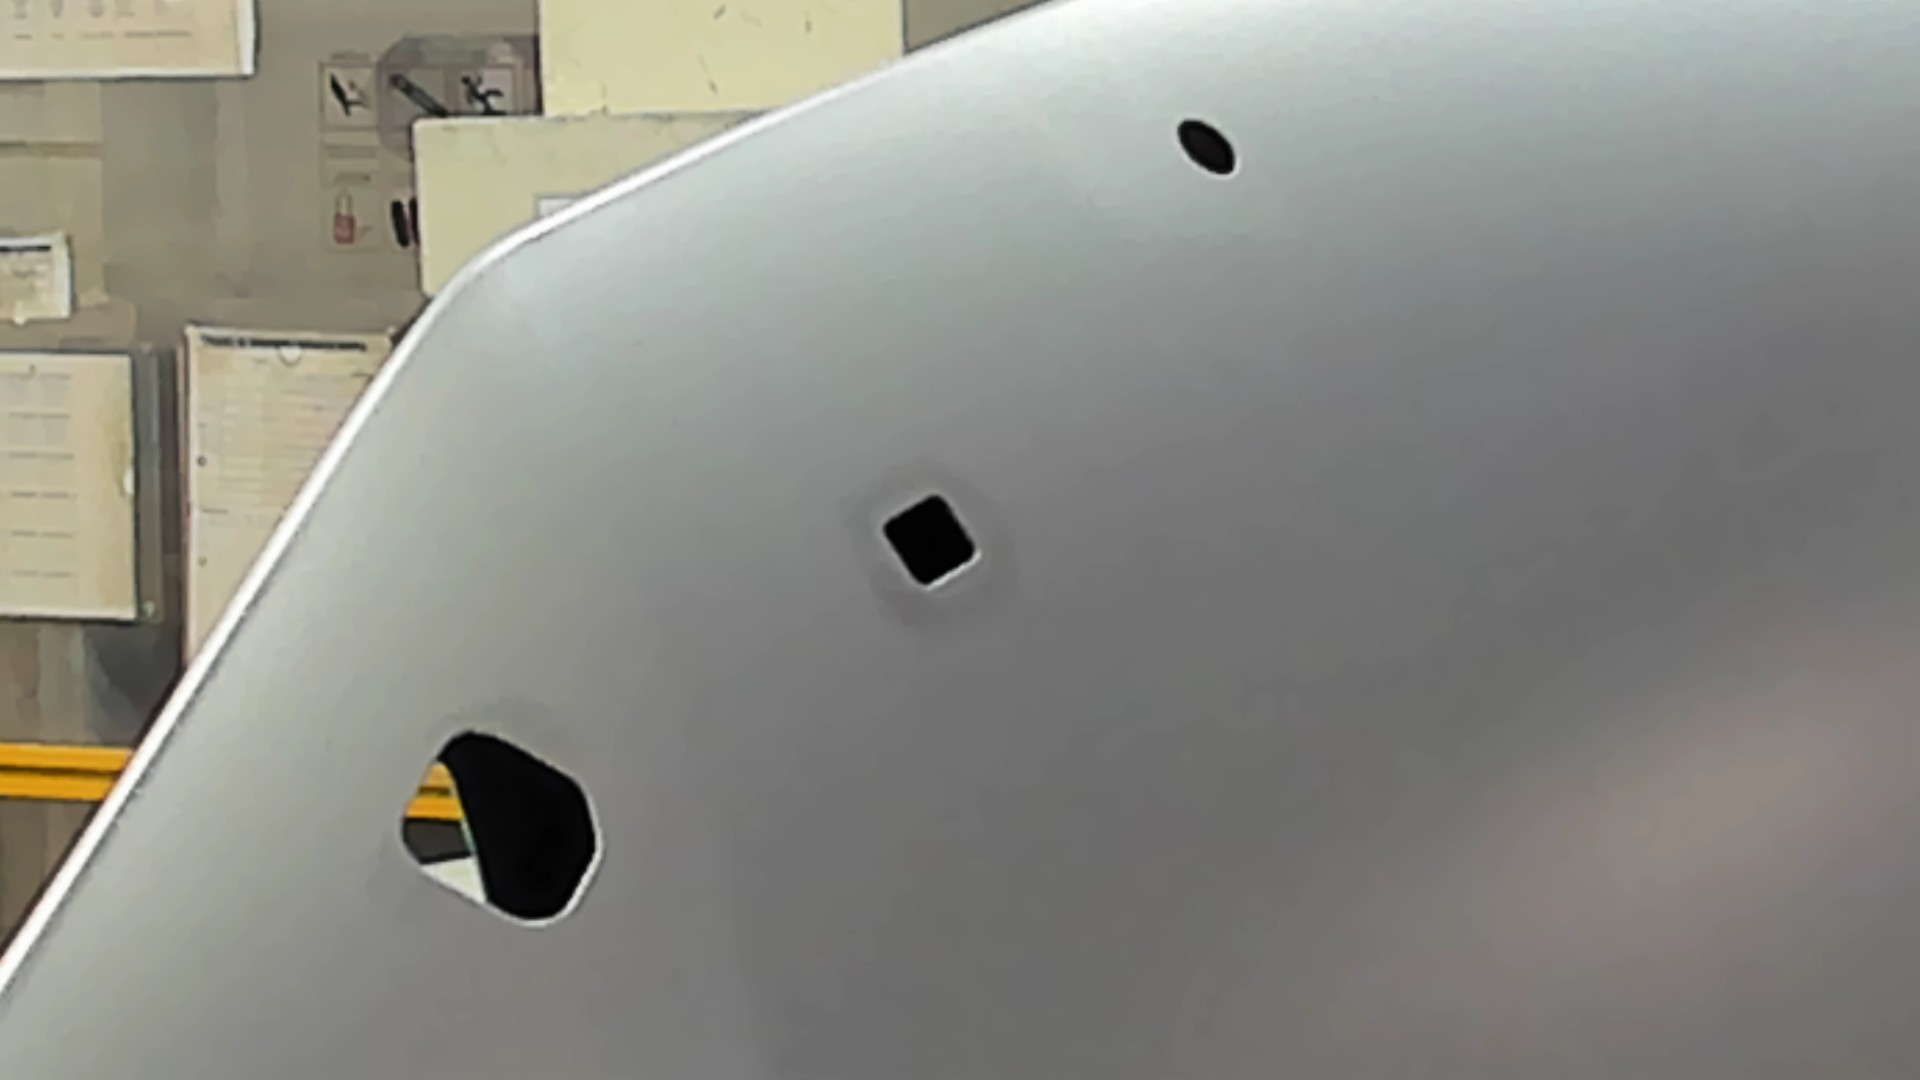chico: (1174, 113, 1242, 178)
grande: (398, 728, 605, 928)
mediano: (880, 492, 980, 591)
